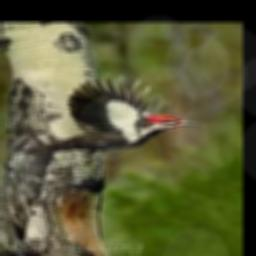Woodpecker: (15, 74, 205, 158)
